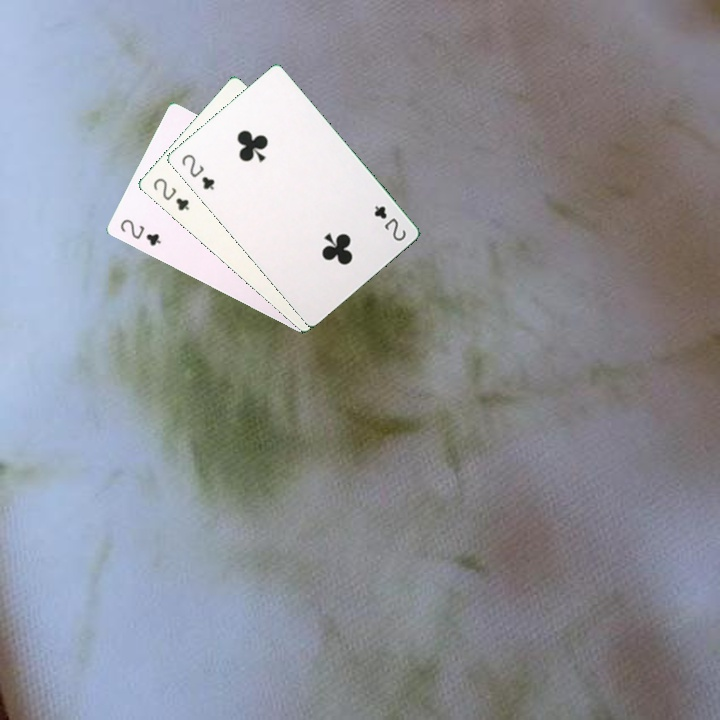2c: (177, 150, 217, 193), (149, 174, 192, 213), (370, 201, 409, 244), (116, 215, 163, 249)
